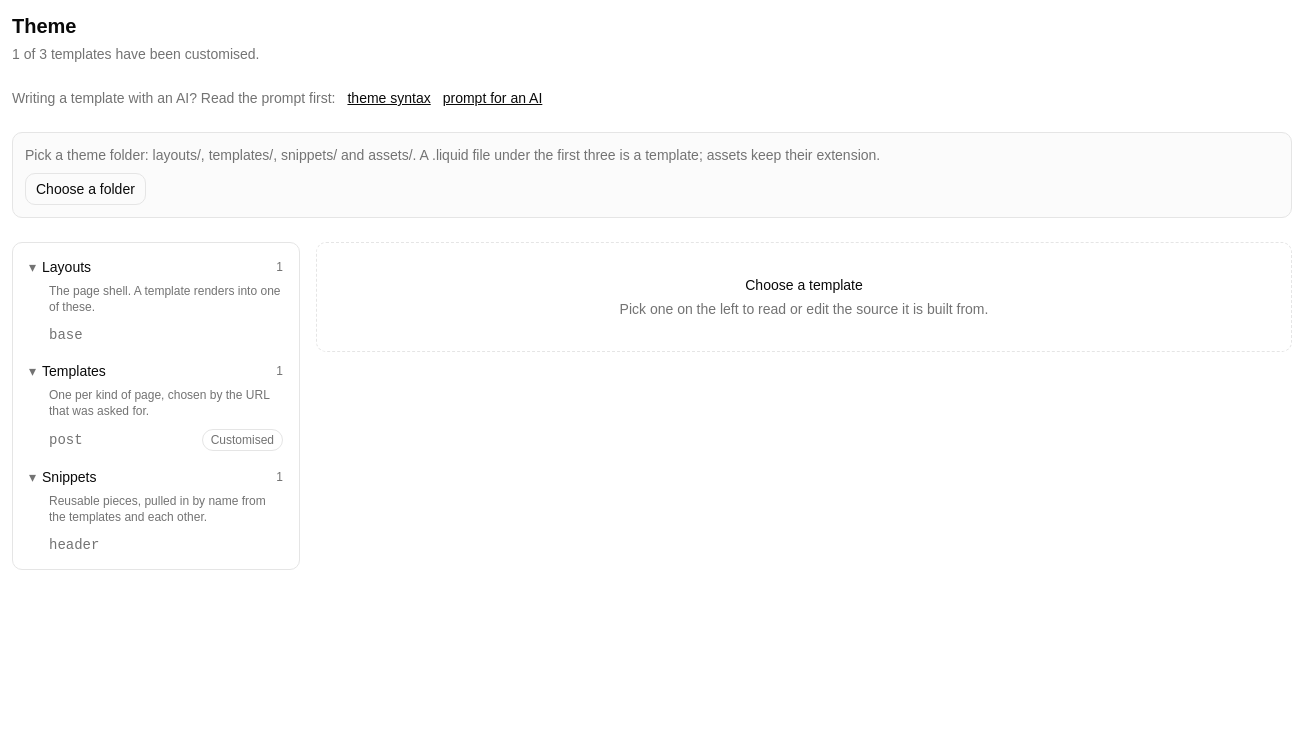
Scenario: choosing a file › folds a folder away and back
Check: the text "post" is shown, box left=49, top=430, right=83, bottom=450
What coordinates should you click on to do the following:
click the button "▾ Templates 1"
I would click on:
 (74, 371)
Its box is left=21, top=355, right=291, bottom=387.
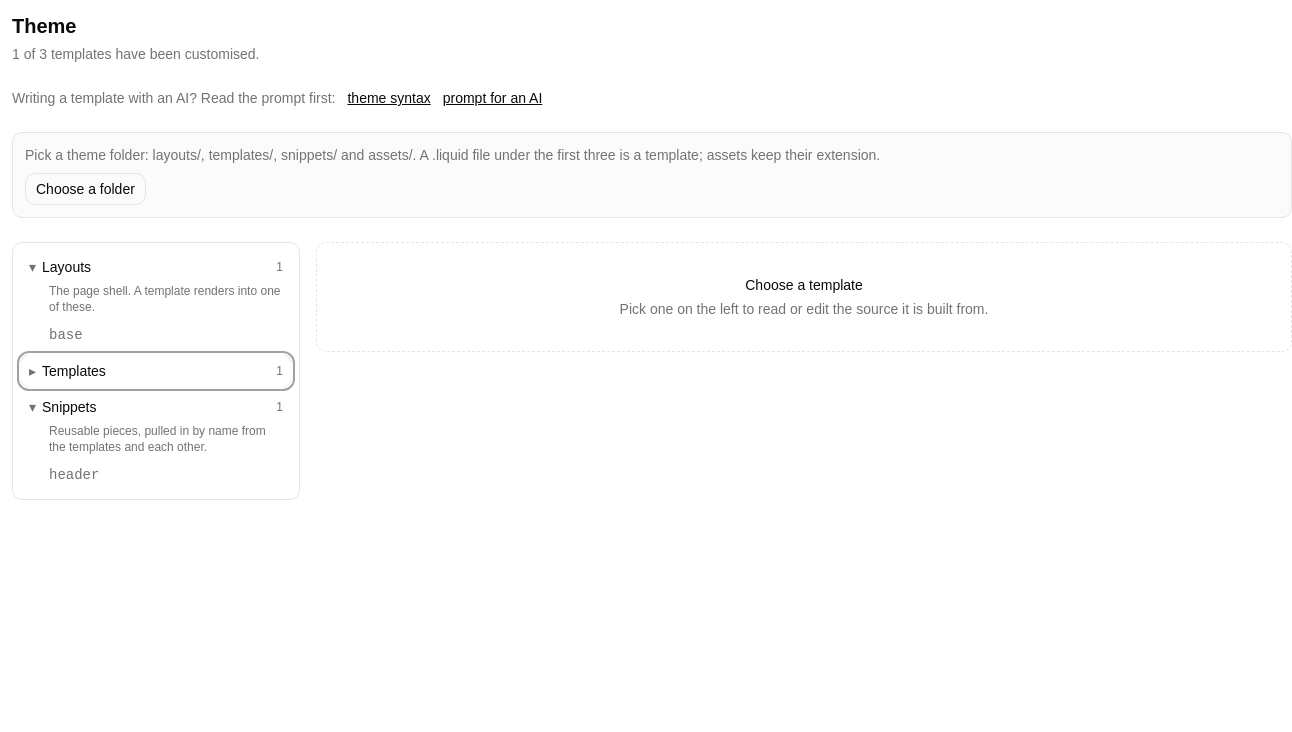
Check: the button "post" is gone
What coordinates should you click on to do the following:
click the button "▸ Templates 1"
I would click on:
 (74, 371)
Its box is left=21, top=355, right=291, bottom=387.
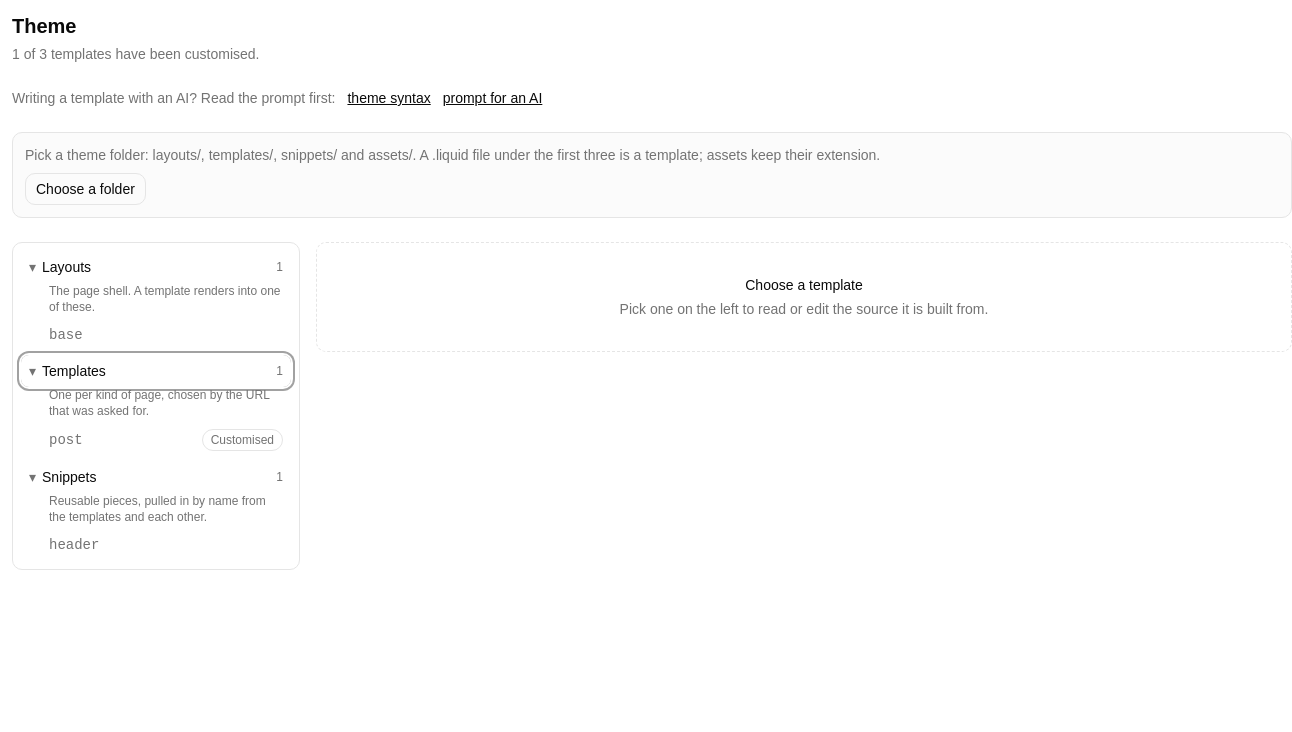
Check: the text "post" is shown, box left=49, top=430, right=83, bottom=450
